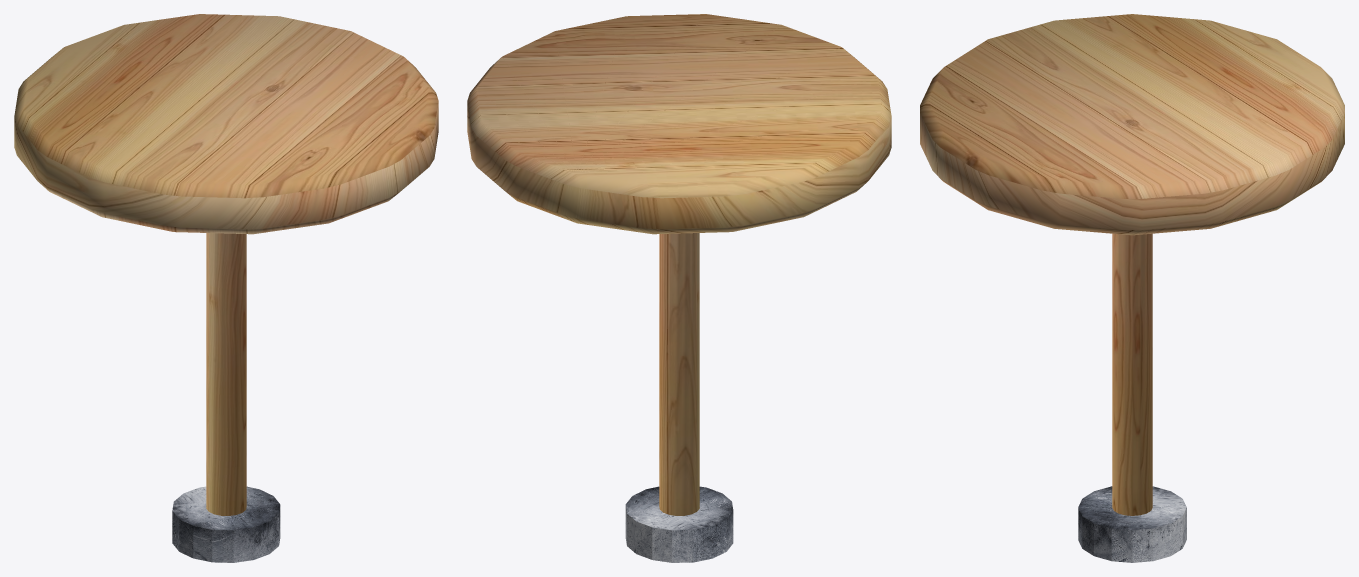
File: TableFBX.fbx
The picture shows the model from 3 angles, left to right: view 1: azimuth 30°, elevation 25°; view 2: azimuth 150°, elevation 25°; view 3: azimuth 270°, elevation 25°; orthographic projection.
Parts seen in each view (by area): view 1: 円; view 2: 円; view 3: 円.
Part boxes in pixels (bbox=[...]): 円: bbox=[14, 14, 438, 562]; 円: bbox=[467, 14, 891, 562]; 円: bbox=[920, 14, 1344, 562].
Size of the model in its own units: 198 by 227 by 198.
